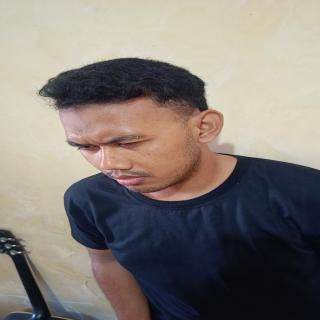Marah: (51, 94, 211, 199)
